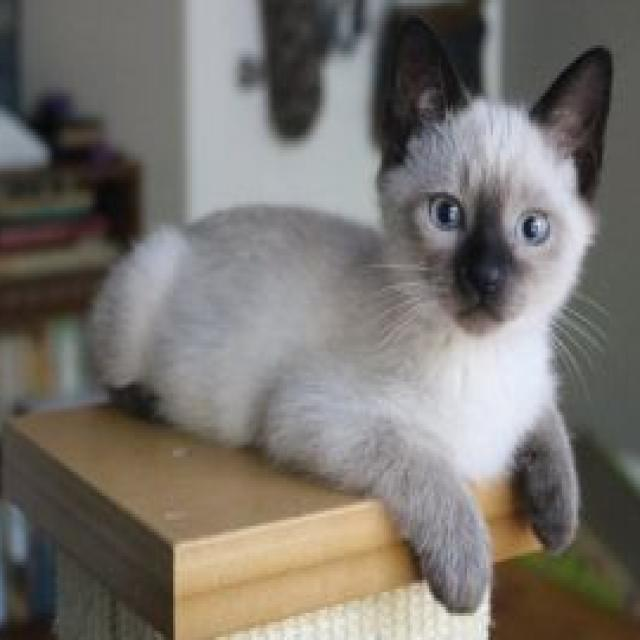Siamese: (83, 10, 617, 618)
